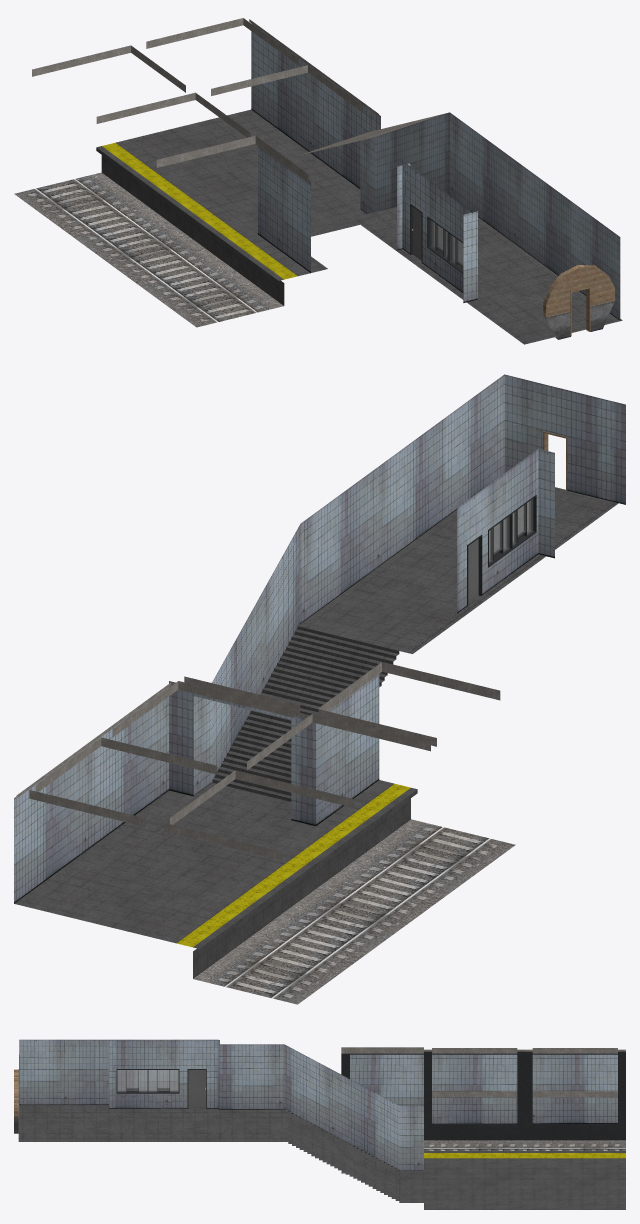
Rendered from metro stairs.glb.
The picture shows the model from 3 angles, top to bottom: view 1: azimuth 30°, elevation 25°; view 2: azimuth 150°, elevation 25°; view 3: azimuth 270°, elevation 25°; orthographic projection. The views are drawn at different scales.
Parts seen in each view (by area): view 1: SerwersP1_008, Estruc.001, SerwersP1_008.001, Frame, Glass_01; view 2: SerwersP1_008, Estruc.001, Frame, Glass_01; view 3: SerwersP1_008, Estruc.001, Glass_01, Door_A_01, Frame, SerwersP1_008.001.
Part boxes in pixels (x1,y1,x2,y2): SerwersP1_008: (14,18,622,344); Estruc.001: (402,160,477,302); SerwersP1_008.001: (543,265,615,339); Frame: (410,203,463,273); Glass_01: (430,220,462,265); SerwersP1_008: (14,374,625,1004); Estruc.001: (457,449,554,613); Frame: (467,495,536,606); Glass_01: (489,499,532,562); SerwersP1_008: (18,1039,625,1209); Estruc.001: (109,1040,219,1108); Glass_01: (117,1070,178,1091); Door_A_01: (188,1070,205,1108); Frame: (116,1069,206,1108); SerwersP1_008.001: (14,1069,18,1133).
Bounding box in the file's own units: 13.23 × 10.3 × 37.94.
10 materials, 9 textured.
